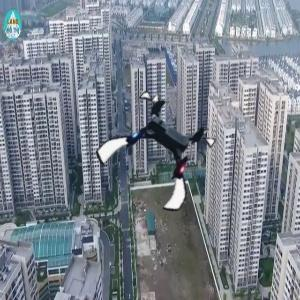drone: (108, 101, 214, 207)
